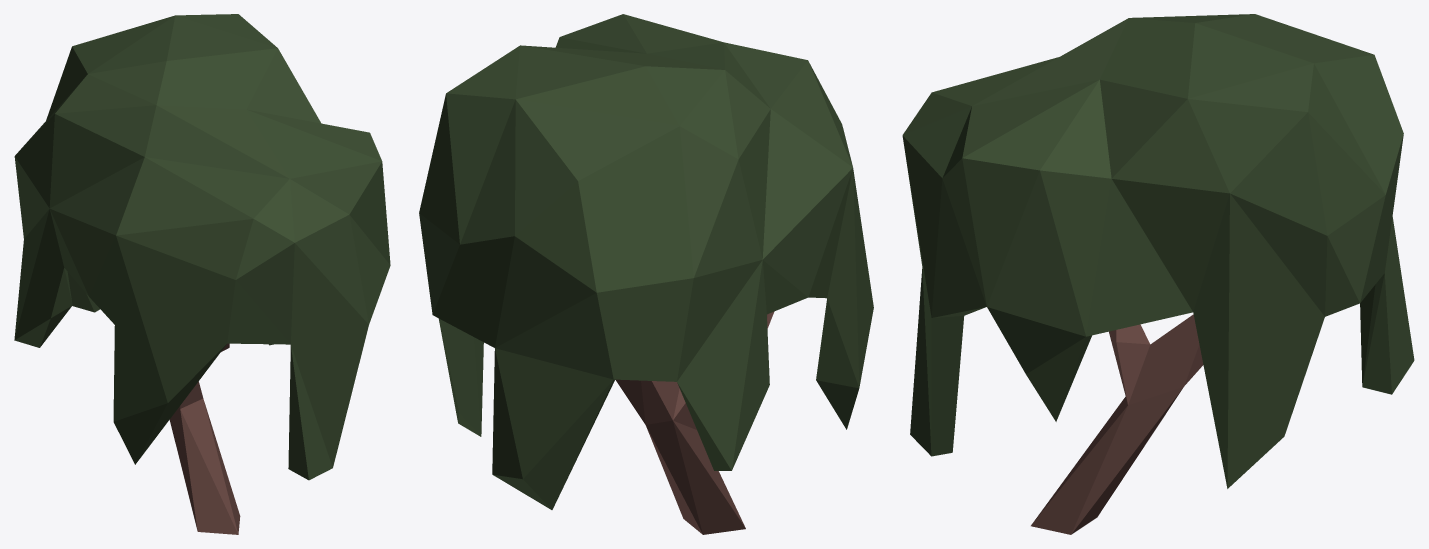
The model's file is willow-tree-4.gltf.
3 renders of one model, left to right at view 1: azimuth 30°, elevation 25°; view 2: azimuth 150°, elevation 25°; view 3: azimuth 270°, elevation 25°, orthographic. The views are drawn at different scales.
Parts seen in each view (by area): view 1: Willow_4_Cube.043; view 2: Willow_4_Cube.043; view 3: Willow_4_Cube.043.
Part boxes in pixels (x1,y1,x2,y2): Willow_4_Cube.043: (14, 14, 390, 534); Willow_4_Cube.043: (419, 14, 873, 534); Willow_4_Cube.043: (902, 14, 1414, 534).
Size of the model in its own units: 0.0216 by 0.0332 by 0.0307.
